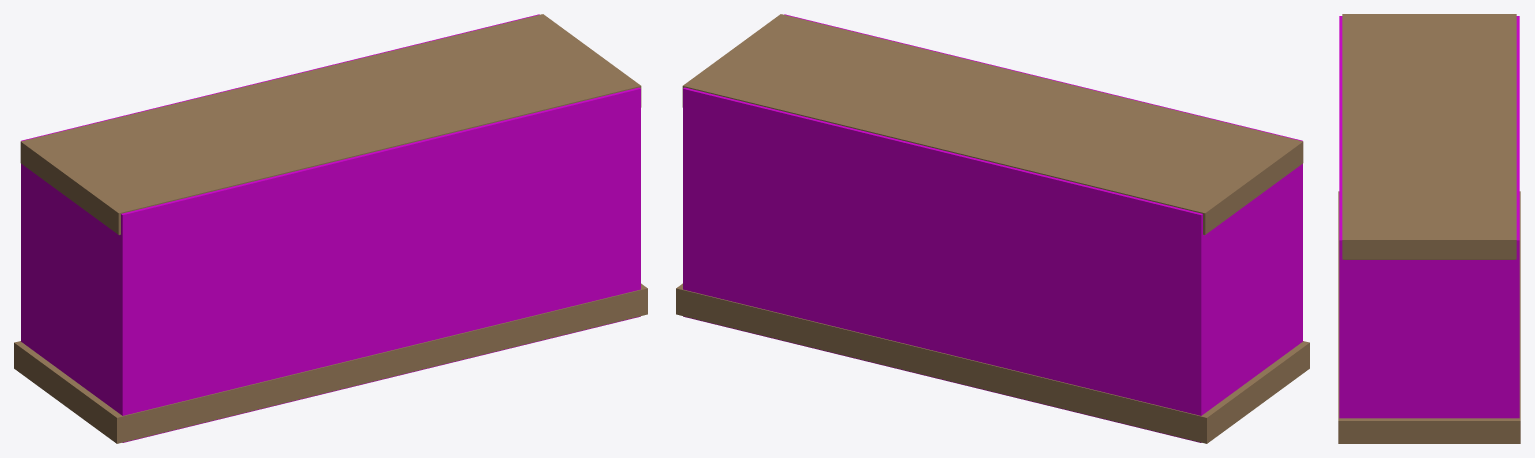
Rendered from ENV_Carved_Frieze_A.glb.
3 renders of one model, left to right at view 1: azimuth 30°, elevation 25°; view 2: azimuth 150°, elevation 25°; view 3: azimuth 270°, elevation 25°, orthographic. The views are drawn at different scales.
Visible parts, largest first — view 1: COL_Block, ENV_Carved_Frieze_A_Mesh; view 2: COL_Block, ENV_Carved_Frieze_A_Mesh; view 3: ENV_Carved_Frieze_A_Mesh, COL_Block.
Part boxes in pixels (bbox=[...]): COL_Block: bbox=[21, 14, 640, 442]; ENV_Carved_Frieze_A_Mesh: bbox=[14, 14, 647, 443]; COL_Block: bbox=[683, 14, 1302, 442]; ENV_Carved_Frieze_A_Mesh: bbox=[676, 14, 1309, 443]; ENV_Carved_Frieze_A_Mesh: bbox=[1338, 14, 1520, 443]; COL_Block: bbox=[1339, 16, 1519, 418].
Size of the model in its own units: 2.56 by 1.05 by 0.86.
